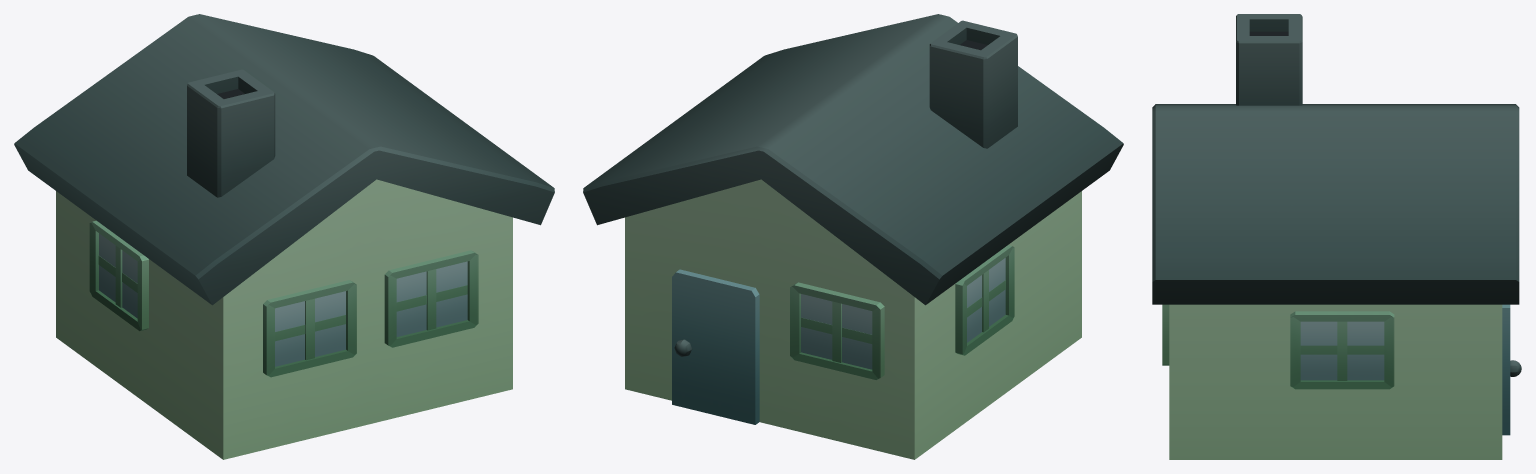
File: houseGreen.fbx
3 views of the same model, side by side, from view 1: azimuth 30°, elevation 25°; view 2: azimuth 150°, elevation 25°; view 3: azimuth 270°, elevation 25° (orthographic).
Parts seen in each view (by area): view 1: HouseGreen; view 2: HouseGreen; view 3: HouseGreen.
Boxes of the visible parts, <box> form: HouseGreen: <box>14,14,554,459</box>; HouseGreen: <box>583,14,1123,459</box>; HouseGreen: <box>1152,14,1521,459</box>.
Bounding box in the file's own units: 6.2 × 5.3 × 5.55.
